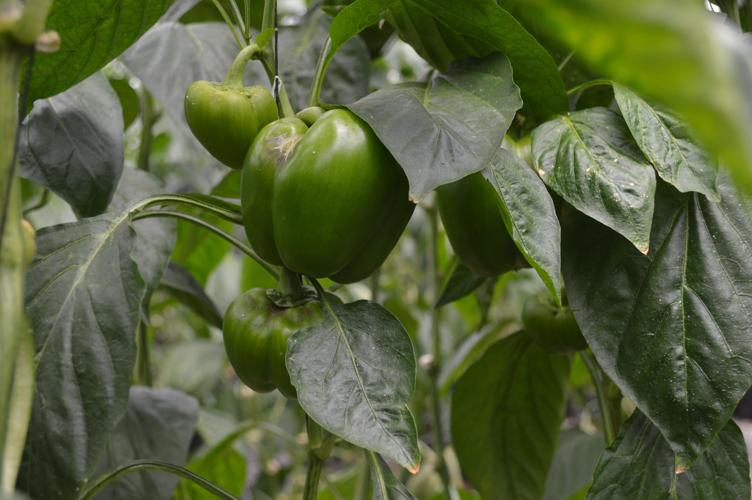BellPepper: (239, 111, 411, 285), (223, 289, 348, 397), (431, 175, 521, 280), (182, 83, 274, 165), (513, 295, 585, 352)
